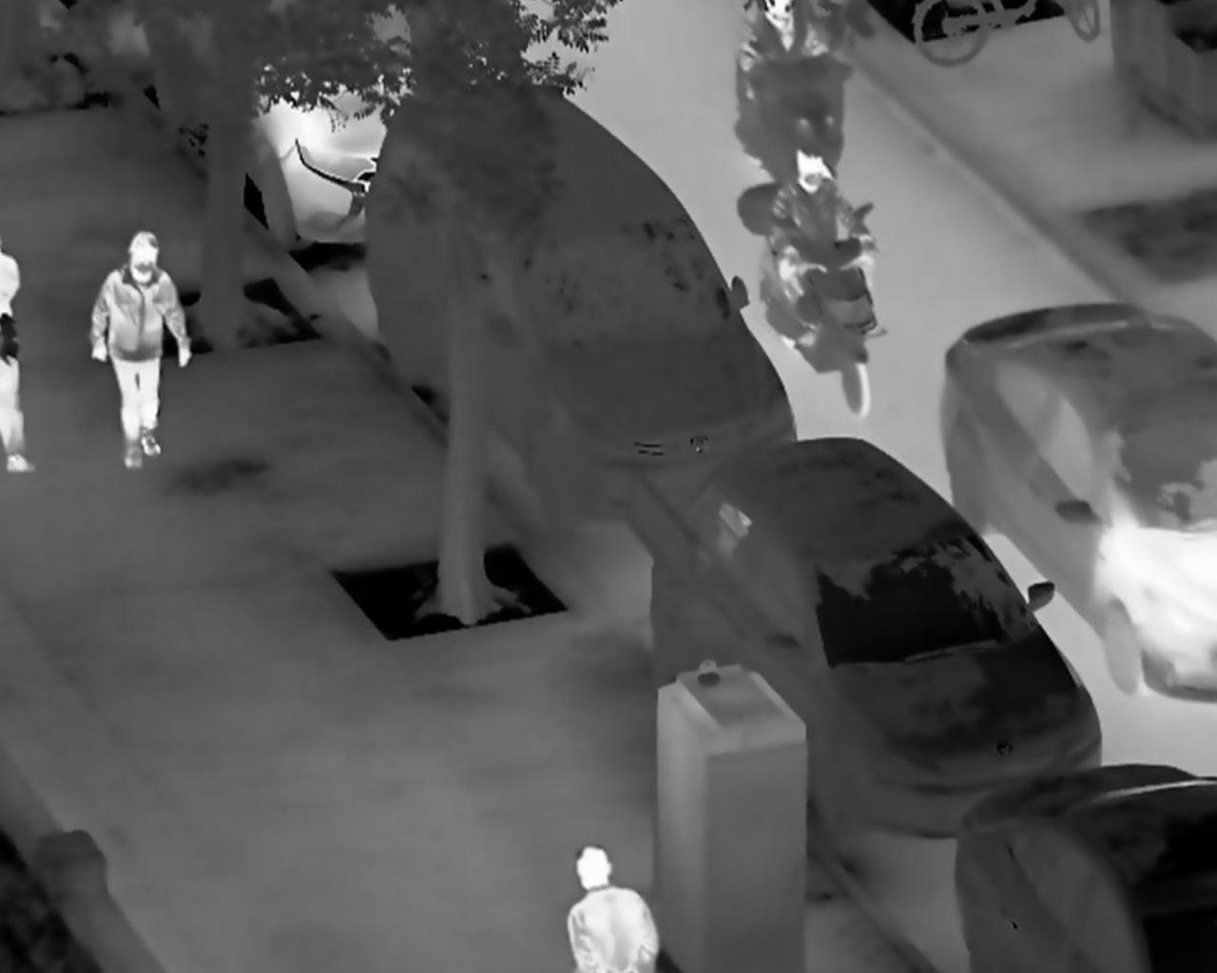person: (89, 226, 192, 472), (765, 143, 889, 343), (563, 842, 659, 973)
